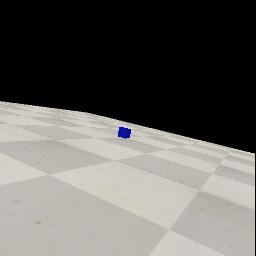box: (118, 127, 131, 139)
